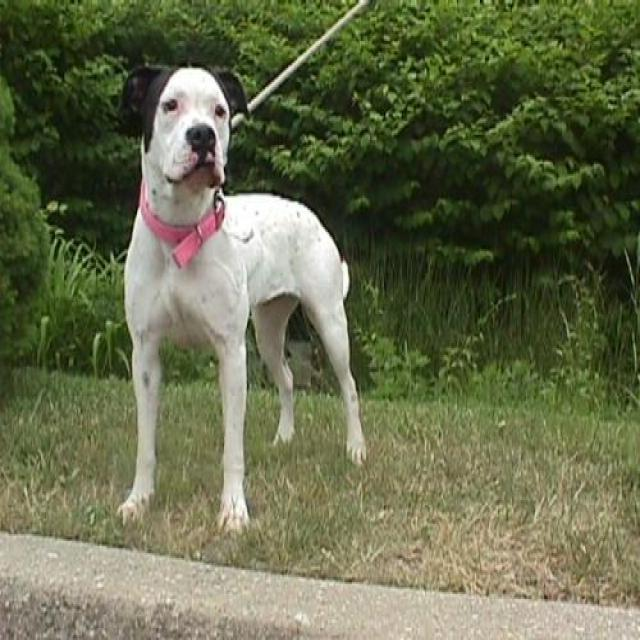Dogs: (115, 60, 368, 536)
